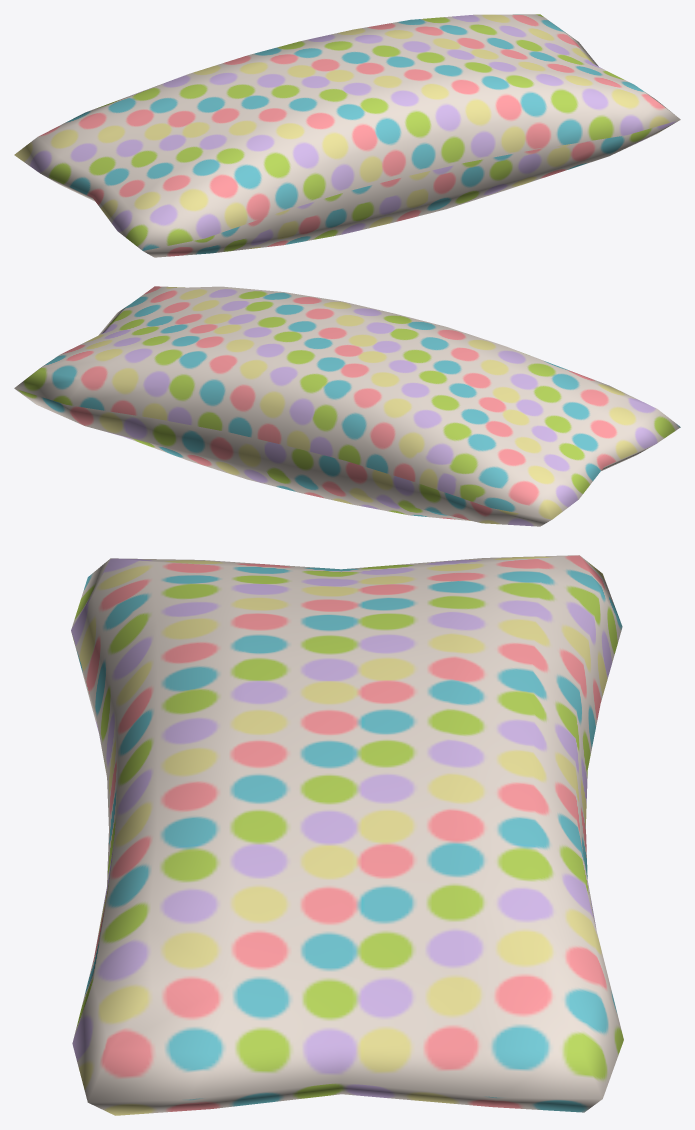
Rendered from almohadaGrande.fbx.
3 renders of one model, top to bottom at view 1: azimuth 30°, elevation 25°; view 2: azimuth 150°, elevation 25°; view 3: azimuth 270°, elevation 25°, orthographic. The views are drawn at different scales.
Visible parts, largest first — view 1: almohadaLarga; view 2: almohadaLarga; view 3: almohadaLarga.
Part boxes in pixels (<box>): almohadaLarga: <box>14,14,680,257</box>; almohadaLarga: <box>14,286,680,526</box>; almohadaLarga: <box>71,555,623,1115</box>.
Size of the model in its own units: 90 by 20.11 by 40.
